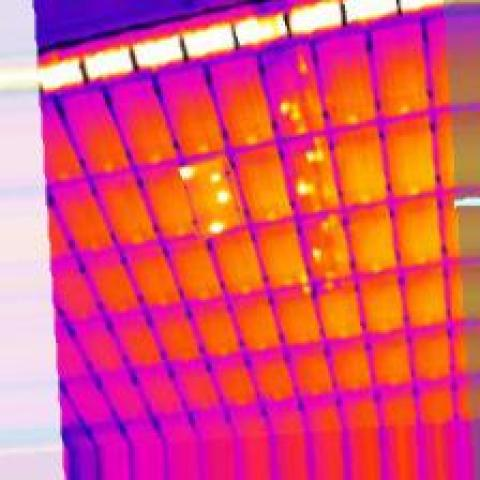fault: (276, 96, 311, 133), (174, 158, 199, 186), (292, 176, 320, 201), (300, 141, 326, 165), (291, 49, 311, 77), (313, 212, 338, 234), (306, 242, 328, 266), (204, 216, 229, 236), (341, 109, 362, 129), (212, 186, 232, 206), (206, 167, 225, 187)
